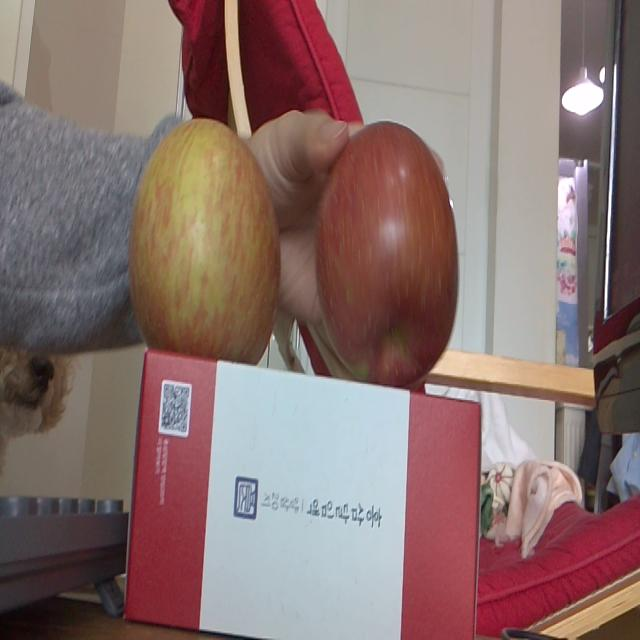apple: (312, 114, 462, 400), (130, 113, 284, 363)
